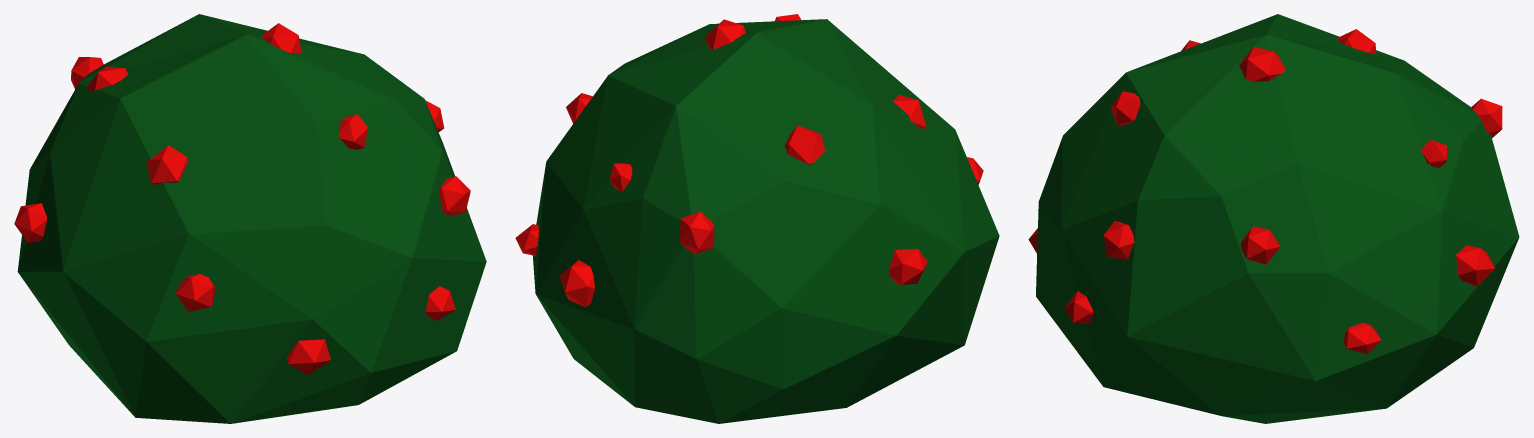
The model's file is Bush_with_Flowers_flat.gltf.
The picture shows the model from 3 angles, left to right: view 1: azimuth 30°, elevation 25°; view 2: azimuth 150°, elevation 25°; view 3: azimuth 270°, elevation 25°; orthographic projection.
Visible parts, largest first — view 1: Bush_with_Flowers_flat; view 2: Bush_with_Flowers_flat; view 3: Bush_with_Flowers_flat.
Part boxes in pixels (x1,y1,x2,y2): Bush_with_Flowers_flat: (14,14,486,423); Bush_with_Flowers_flat: (515,14,999,423); Bush_with_Flowers_flat: (1028,14,1519,423).
Bounding box in the file's own units: 2.74 × 2.15 × 2.9.
2 materials, 2 textured.
